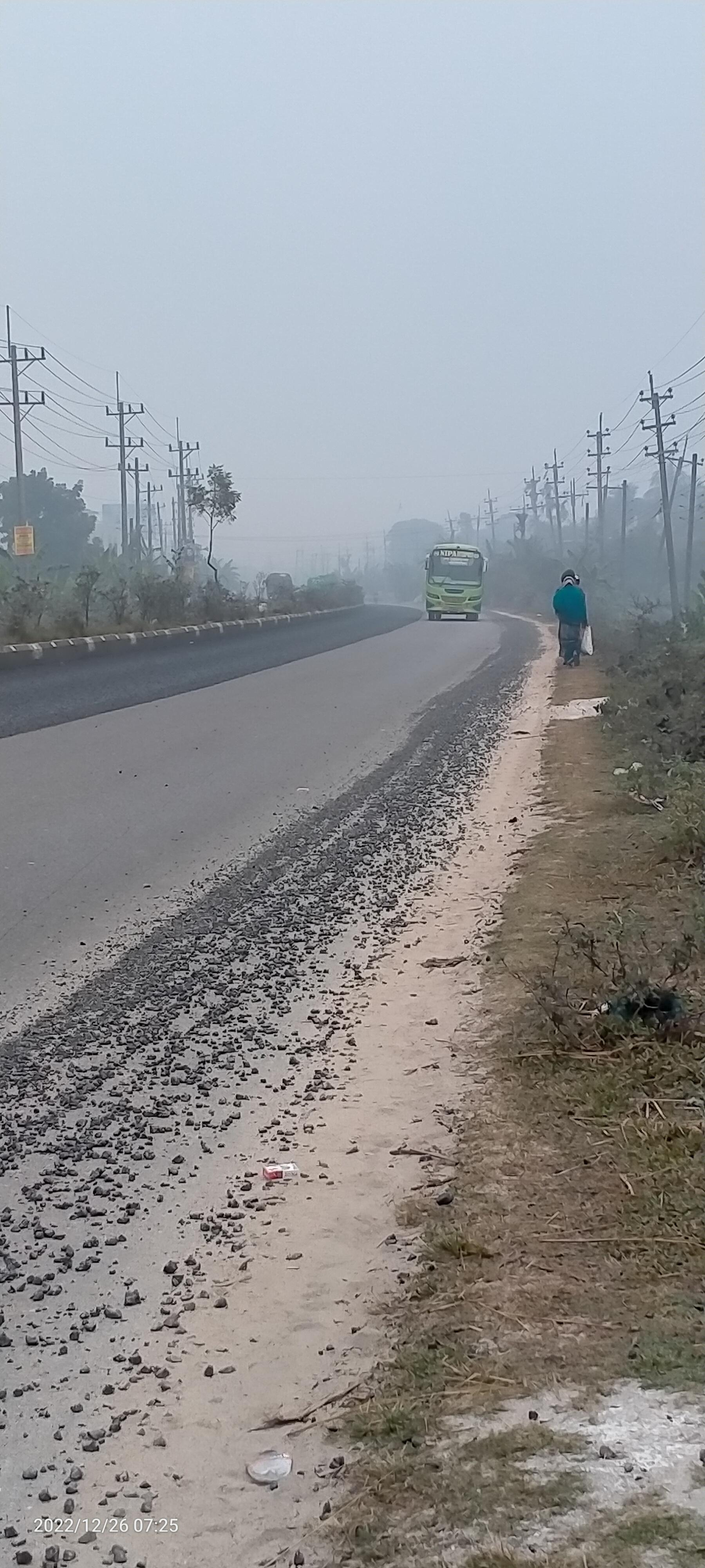Bus: (409, 526, 494, 630)
